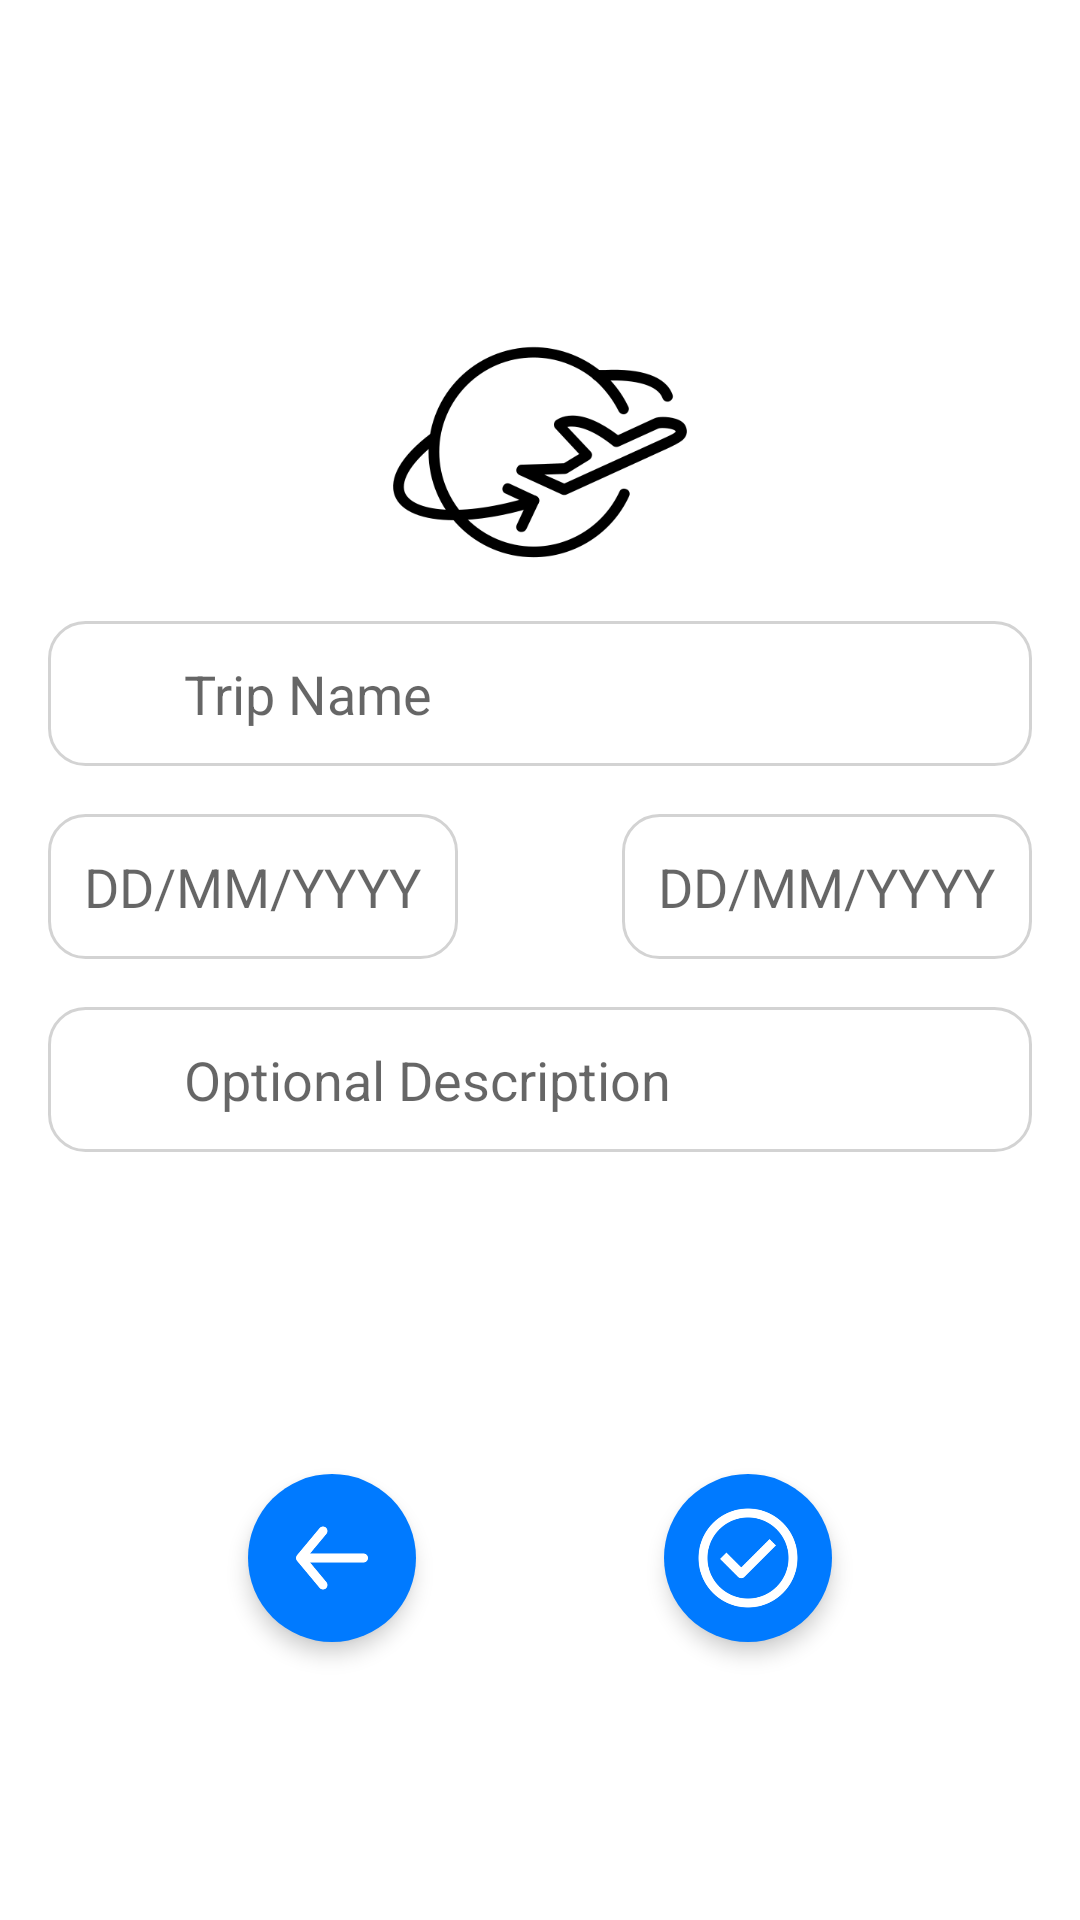

Point at icon controls on the screen. Image size 1080px×1920px, points as (x=x, y=y).
back arrow: (x=332, y=1558)
verified: (x=748, y=1558)
